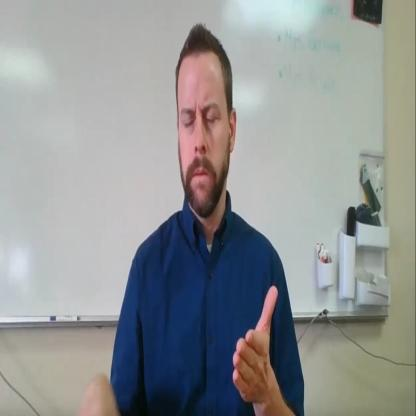Expensive: (79, 281, 286, 416)
